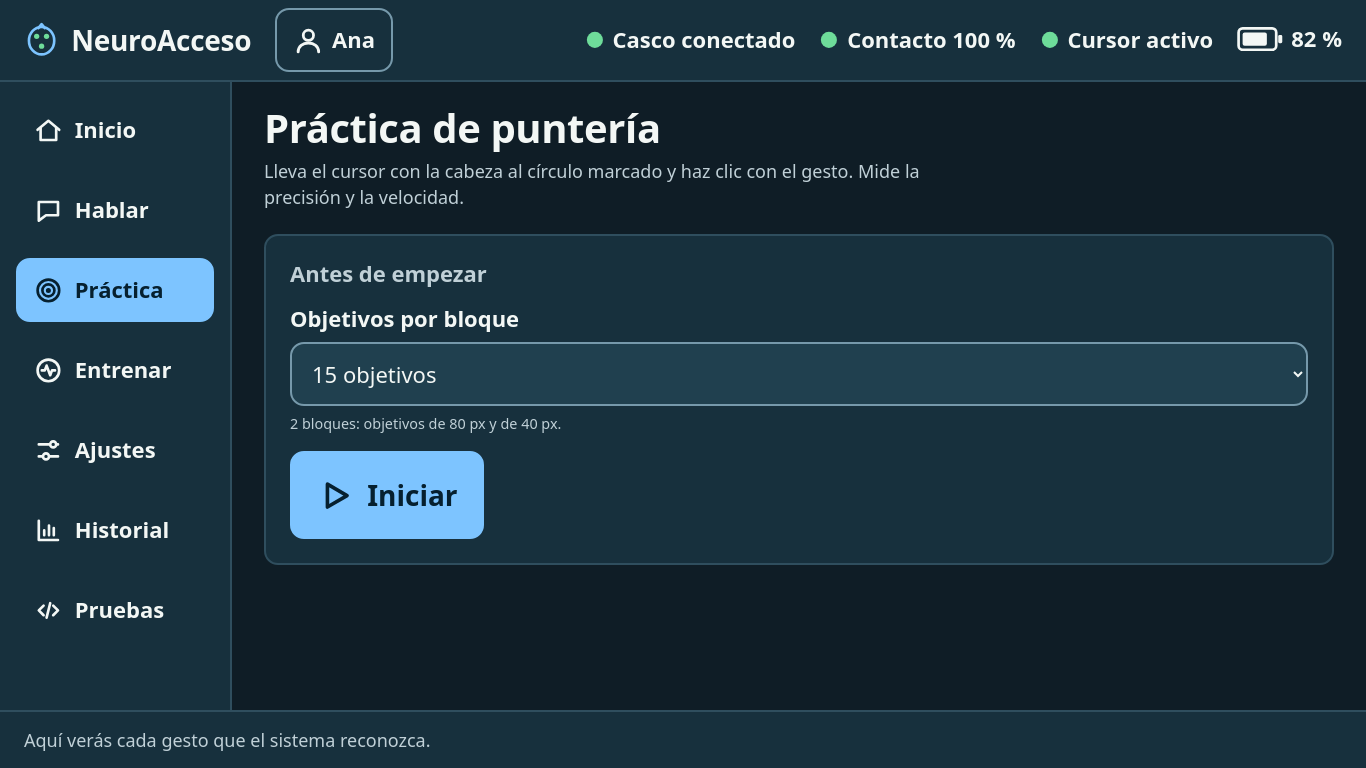
Test case: pantalla de práctica › Detener cierra la sesión y vuelve al inicio
(page scrolled)
Step 1. Click the button "Iniciar" → (387, 495), box [290, 451, 484, 539]
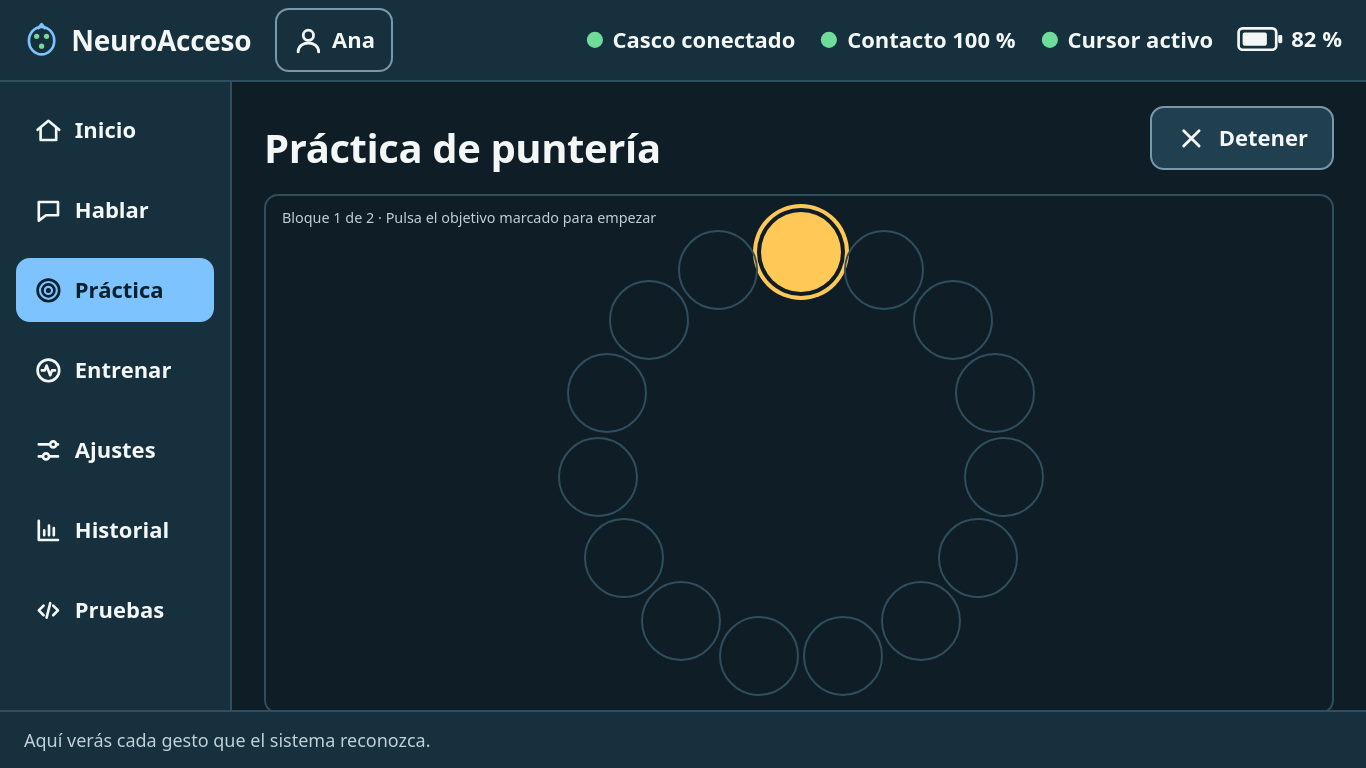
Expected: the text "Bloque 1 de 2 · Pulsa el objetivo marcado para empezar" is shown, [282, 208, 656, 229]
Step 2. Click the button "Detener" → (1242, 138), box [1150, 106, 1334, 170]
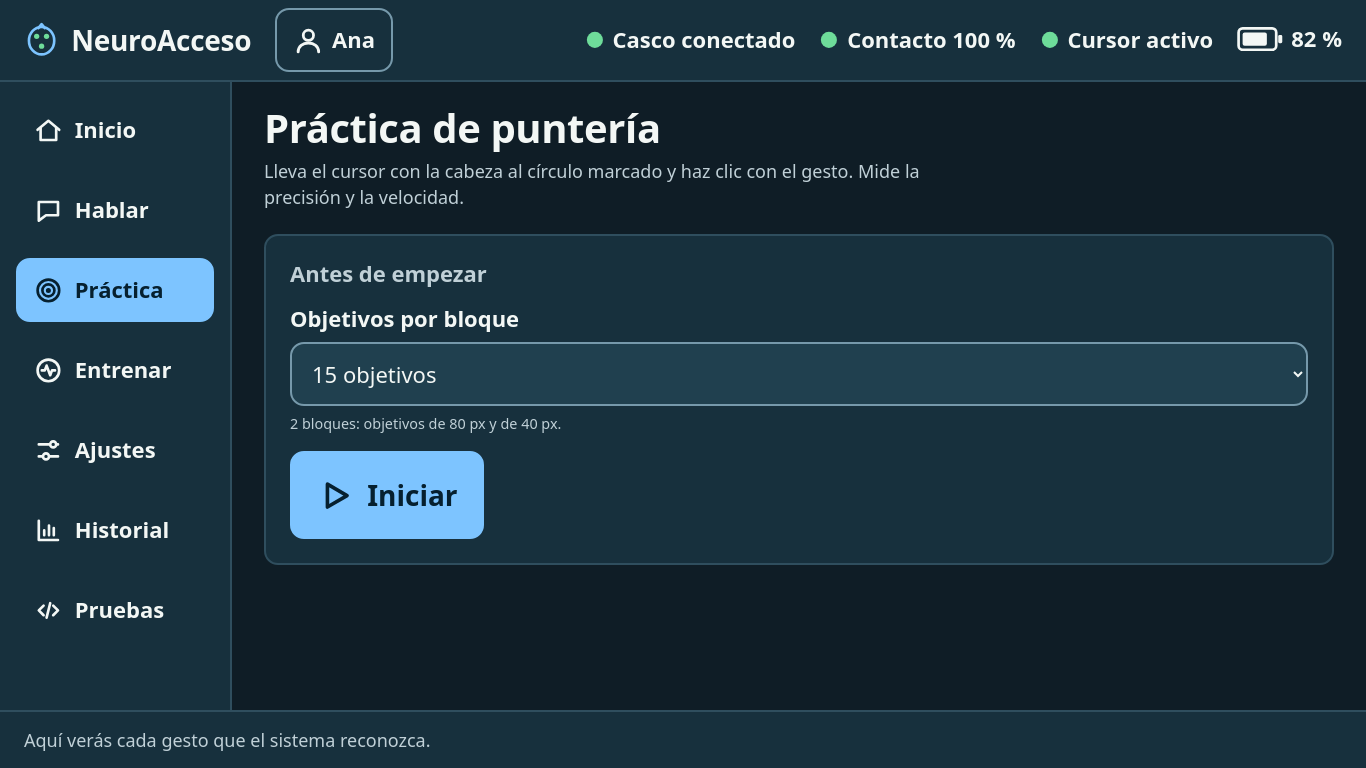
Expected: the button "Iniciar" is shown, [290, 451, 484, 539]
